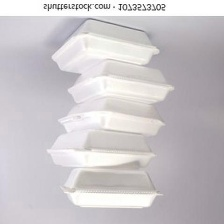foam_box: (47, 16, 161, 78), (64, 55, 177, 109), (55, 162, 166, 213), (41, 126, 158, 174), (53, 95, 168, 139)
